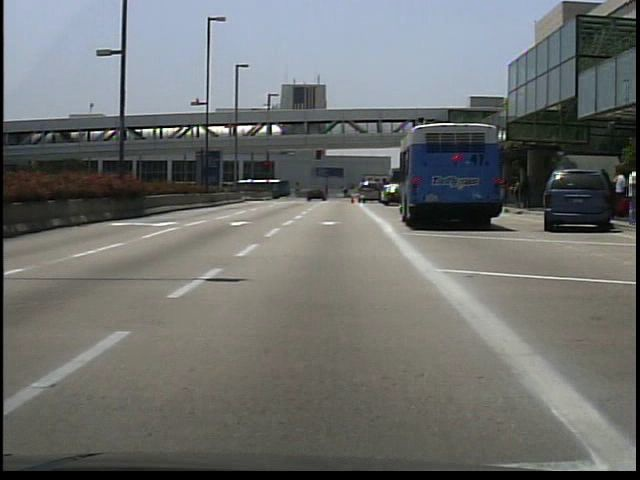person: (611, 168, 630, 218), (623, 163, 638, 222), (519, 173, 531, 209), (341, 184, 353, 199), (325, 185, 334, 200)
